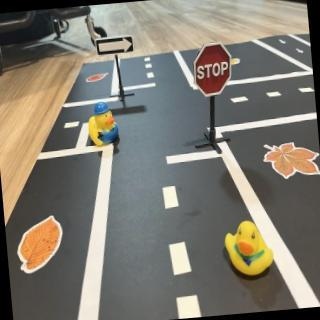duck_regular: (224, 220, 277, 283)
duck_specialty: (88, 102, 121, 148)
sign_oneway_right: (97, 36, 135, 57)
sign_stop: (193, 42, 237, 99)
